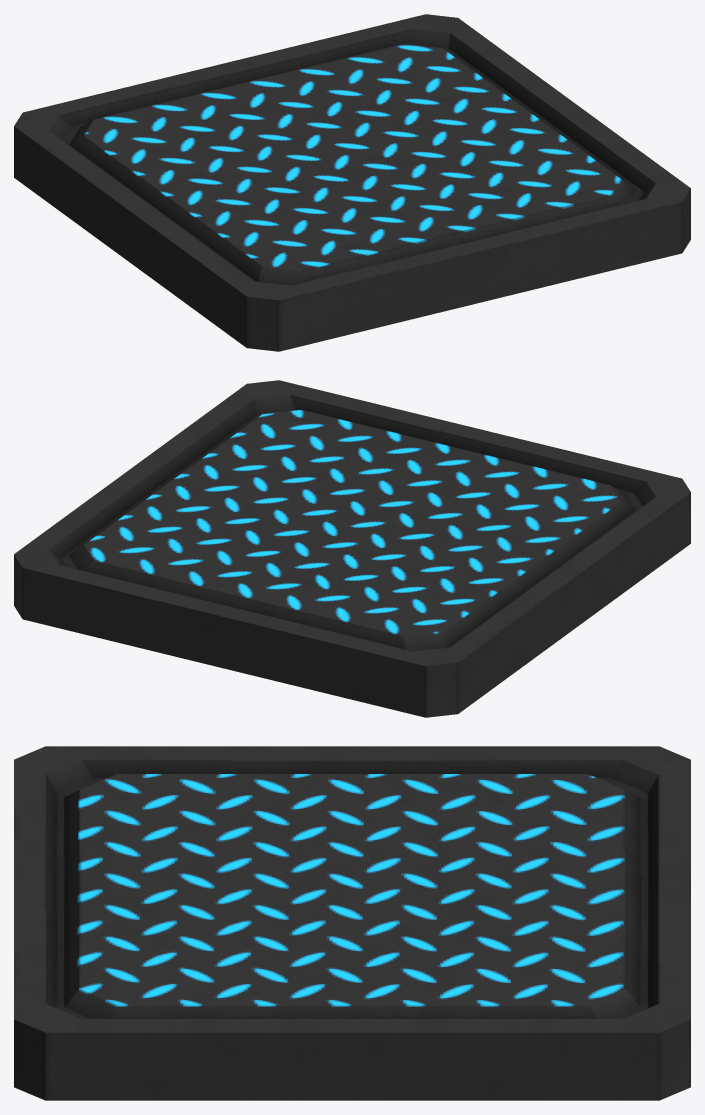
The model's file is tilenew.fbx.
3 views of the same model, one above another, from view 1: azimuth 30°, elevation 25°; view 2: azimuth 150°, elevation 25°; view 3: azimuth 270°, elevation 25° (orthographic). The views are drawn at different scales.
Parts seen in each view (by area): view 1: Cube; view 2: Cube; view 3: Cube.
Part boxes in pixels (box(x1,y1,x2,y2)): Cube: box(14, 14, 690, 351); Cube: box(14, 380, 690, 717); Cube: box(14, 746, 690, 1100).
Size of the model in its own units: 2 by 2 by 0.2215.
Materials: 1 (1 with a texture image).
